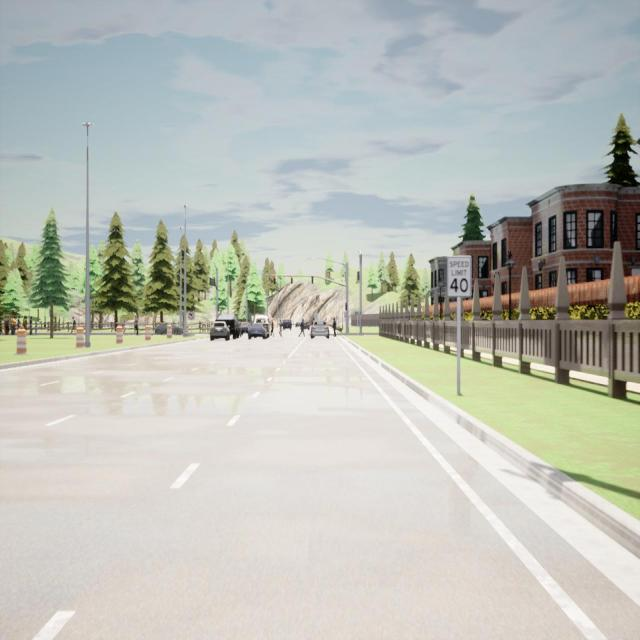Pedestrian: (134, 313, 140, 337), (70, 316, 77, 335), (298, 319, 305, 337), (10, 316, 16, 336), (332, 318, 337, 337), (29, 315, 33, 335), (278, 320, 282, 337), (17, 315, 21, 329), (23, 315, 27, 329), (271, 319, 274, 336)
Traffic_Signs: (446, 256, 472, 297), (188, 312, 195, 319)
Vehicle: (216, 315, 240, 340), (153, 322, 183, 336), (210, 322, 230, 341), (254, 316, 270, 338), (311, 320, 329, 339), (248, 323, 267, 339), (240, 322, 249, 337), (283, 319, 291, 331), (304, 321, 310, 331), (295, 322, 301, 328)
traffic_light: (210, 278, 215, 286), (357, 271, 359, 281), (291, 276, 293, 284), (274, 276, 275, 284), (346, 302, 347, 310), (312, 276, 313, 284), (218, 304, 219, 311)
